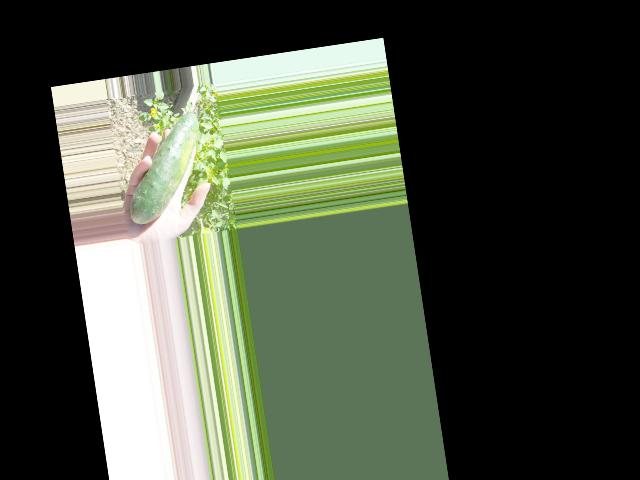cucumber: (117, 110, 211, 224)
